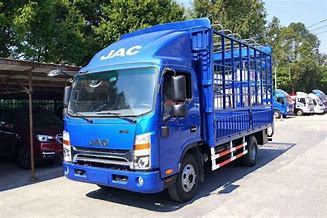smalltruck: (66, 22, 282, 200)
